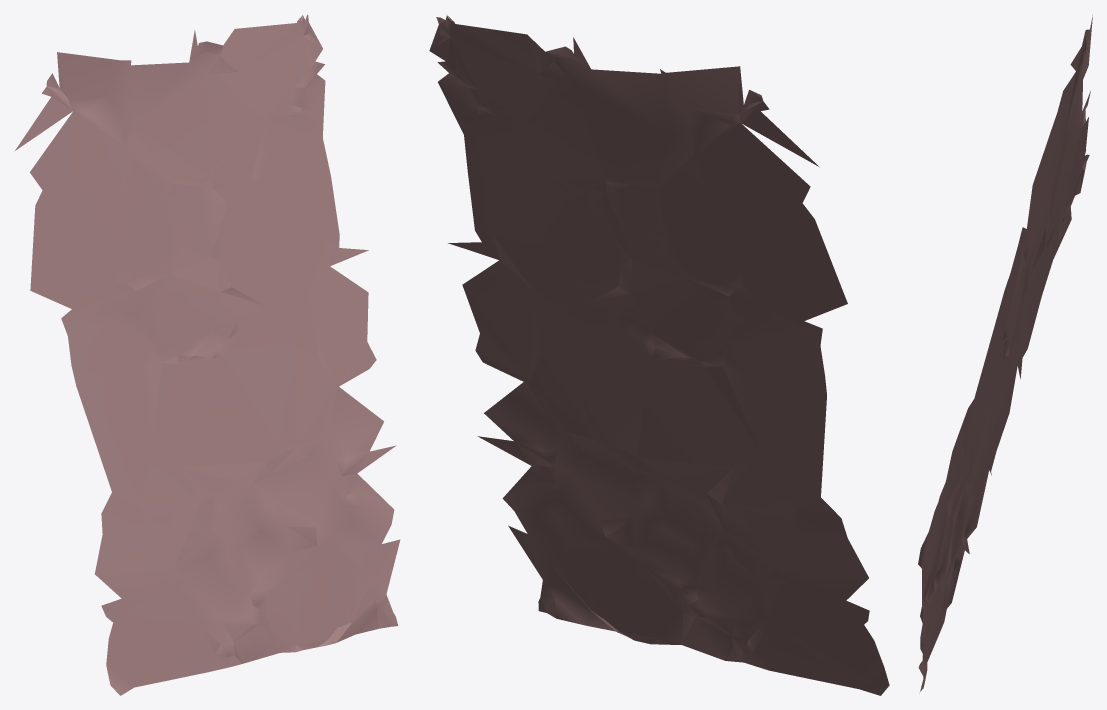
File: plateau.fbx_Rock_Plateau_010LODs.fbx
The picture shows the model from 3 angles, left to right: view 1: azimuth 30°, elevation 25°; view 2: azimuth 150°, elevation 25°; view 3: azimuth 270°, elevation 25°; orthographic projection. The views are drawn at different scales.
Parts seen in each view (by area): view 1: Rock Plateau.010_LOD0; view 2: Rock Plateau.010_LOD0; view 3: Rock Plateau.010_LOD0.
Part boxes in pixels (<box>): Rock Plateau.010_LOD0: <box>15,14,400,695</box>; Rock Plateau.010_LOD0: <box>429,14,889,695</box>; Rock Plateau.010_LOD0: <box>918,15,1092,691</box>.
Size of what is drawn, in the model's own units: 3648 by 5981 by 1681.
